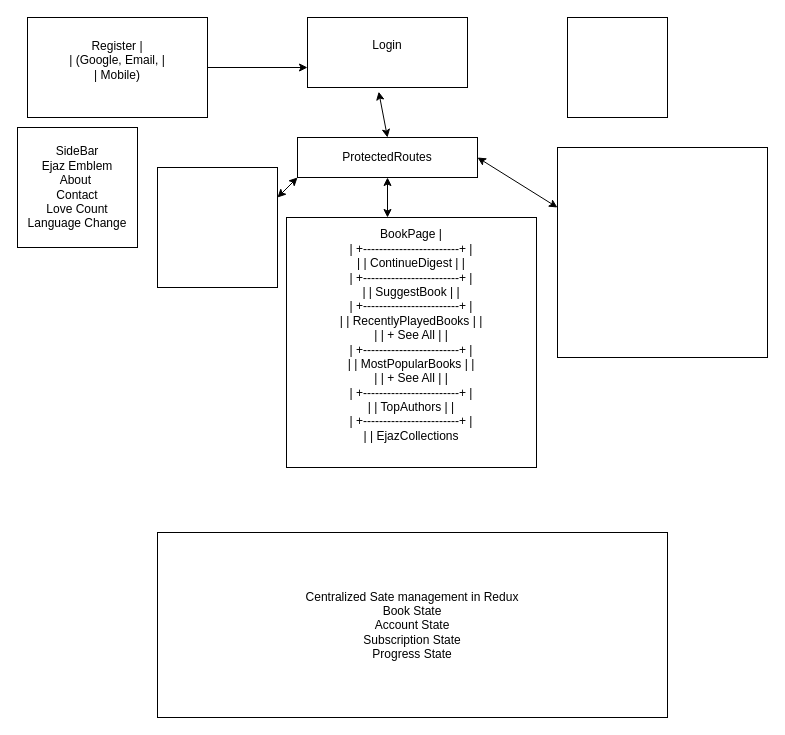
Image size: 785x735. Some labels were removed from this diagram. Each missing label, with the centre of its shape:
"Header App Main SearchBar CategoriesDropdown Menu" belongs at point (662, 252).
"Header DarkLightToggle switch" belongs at point (617, 67).
"SideBar Book route" belongs at point (217, 227).
